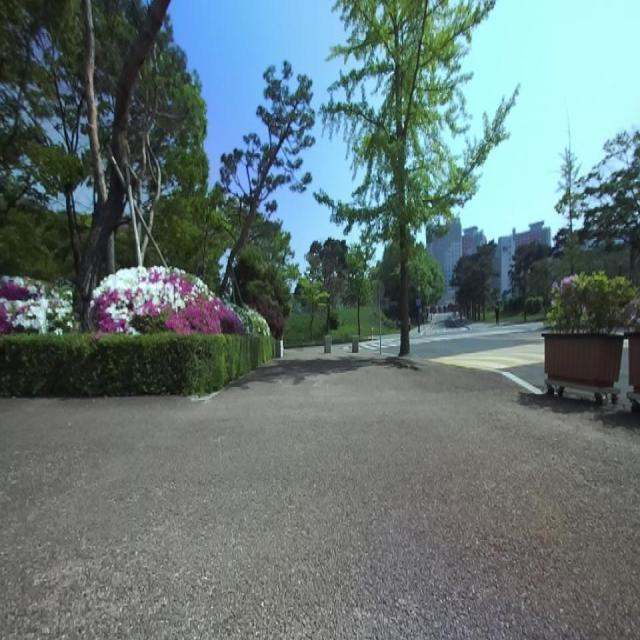sidewalk: (0, 348, 640, 639)
